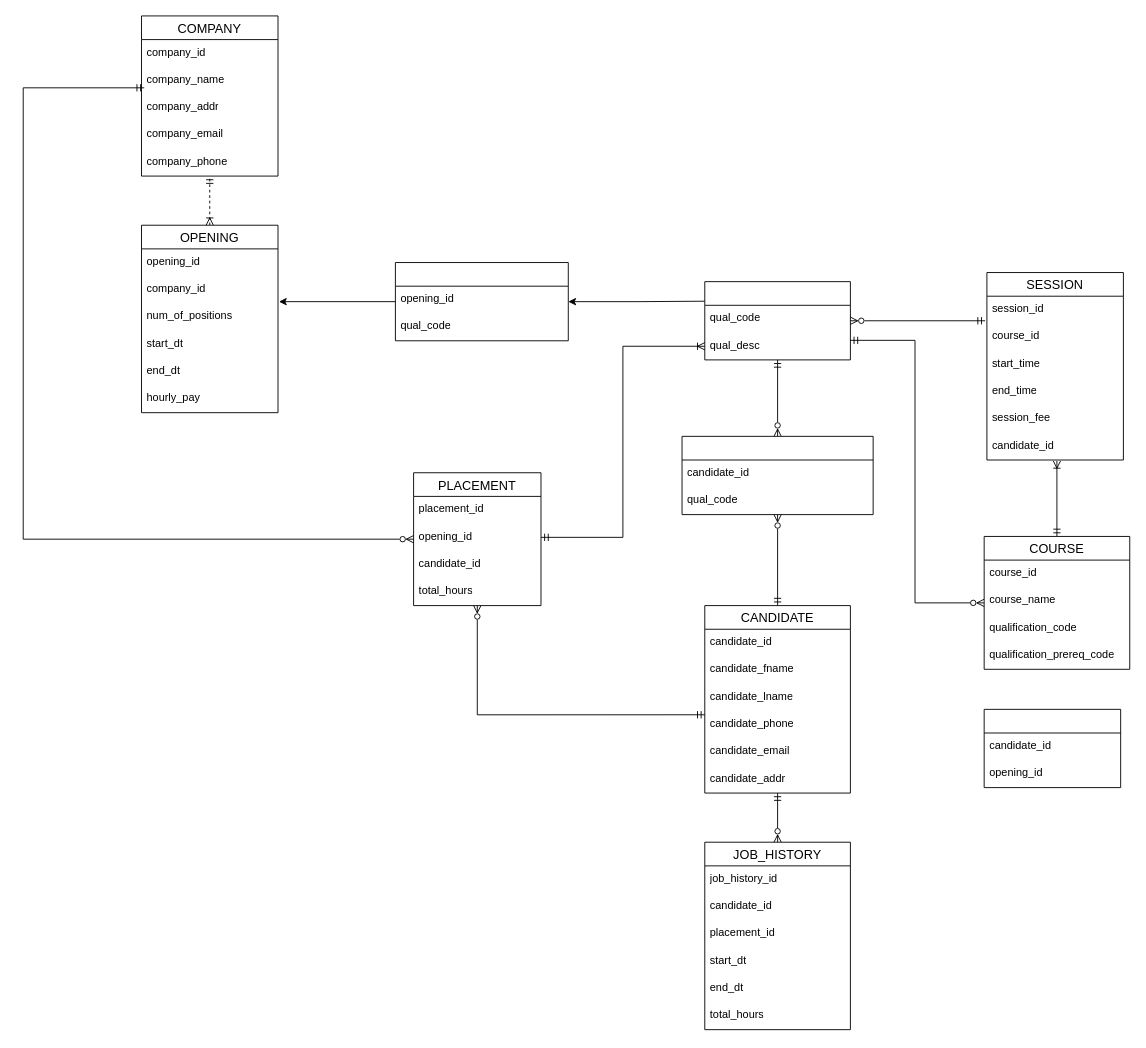
The diagram is 1146 pixels wide and 1048 high, and some of its shapes have lost their labels. Here are the shapes that lost their labels. From the top down, the box of each, then its label:
(394, 262, 568, 341): OPENING_QUALIFICATIONS
(704, 281, 850, 360): QUALIFICATION
(681, 435, 873, 515): CANDIDATE_QUALIFICATIONS
(983, 708, 1121, 788): Application
